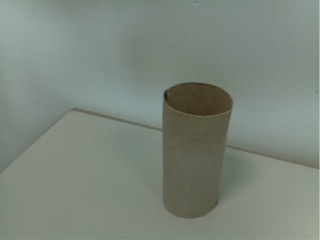rollo papel: (161, 80, 236, 222)
